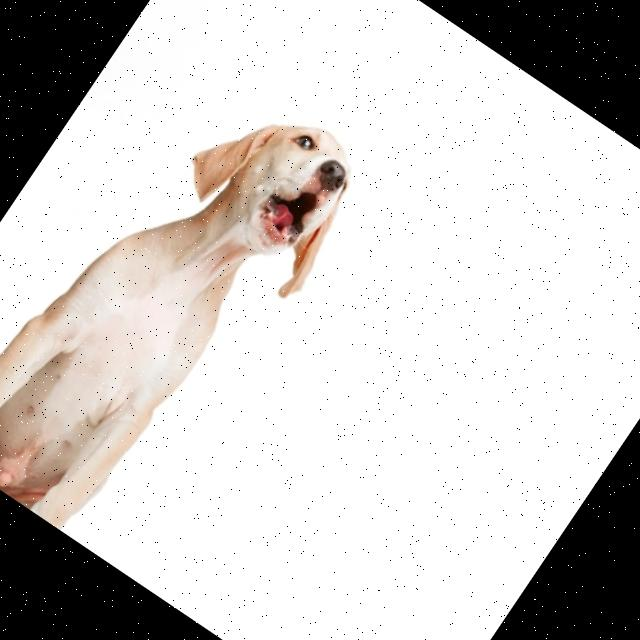Dog: (0, 36, 383, 567)
